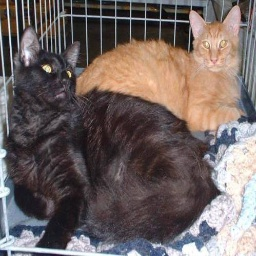cat: (7, 6, 243, 250)
